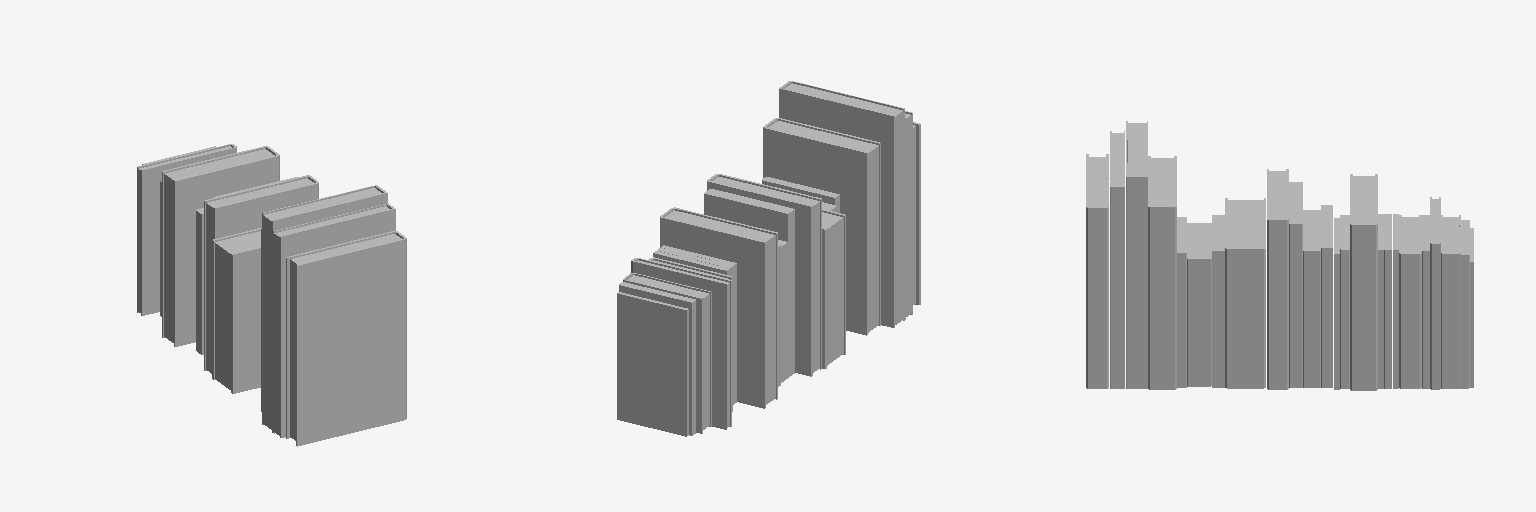
Rendered from books.obj.
3 renders of one model, left to right at view 1: azimuth 30°, elevation 25°; view 2: azimuth 150°, elevation 25°; view 3: azimuth 270°, elevation 25°, orthographic.
Parts seen in each view (by area): view 1: Cube_books_0; view 2: Cube_books_0; view 3: Cube_books_0.
Boxes of the visible parts, x1,y1,x2,y2 form: Cube_books_0: [137, 144, 406, 446]; Cube_books_0: [617, 81, 920, 436]; Cube_books_0: [1086, 121, 1473, 390].
Bounding box in the file's own units: 1.46 × 2.46 × 4.09.